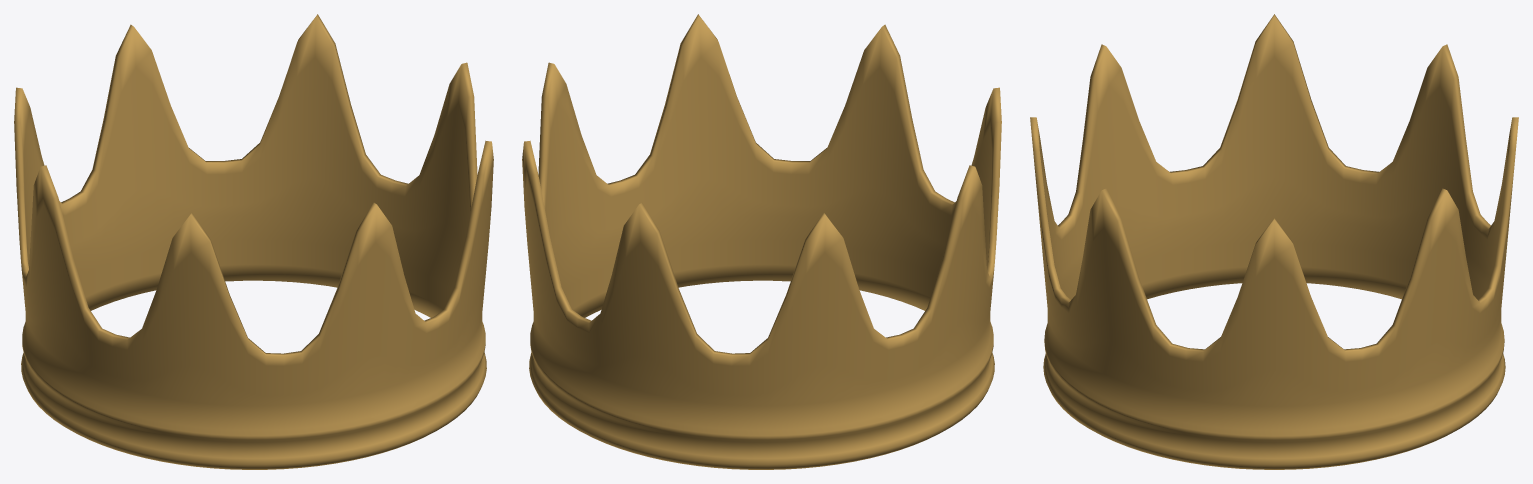
The picture shows the model from 3 angles, left to right: view 1: azimuth 30°, elevation 25°; view 2: azimuth 150°, elevation 25°; view 3: azimuth 270°, elevation 25°; orthographic projection.
Parts seen in each view (by area): view 1: Complete open scalloped crown band; view 2: Complete open scalloped crown band; view 3: Complete open scalloped crown band.
Boxes of the visible parts, x1=… form: Complete open scalloped crown band: x1=14, y1=14, x2=493, y2=469; Complete open scalloped crown band: x1=522, y1=14, x2=1001, y2=469; Complete open scalloped crown band: x1=1030, y1=14, x2=1518, y2=469.
Size of the model in its own units: 22 by 12.8 by 22.
